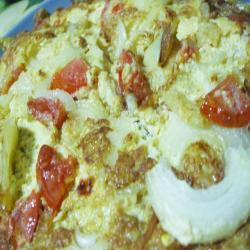carbonara: (5, 6, 249, 247)
